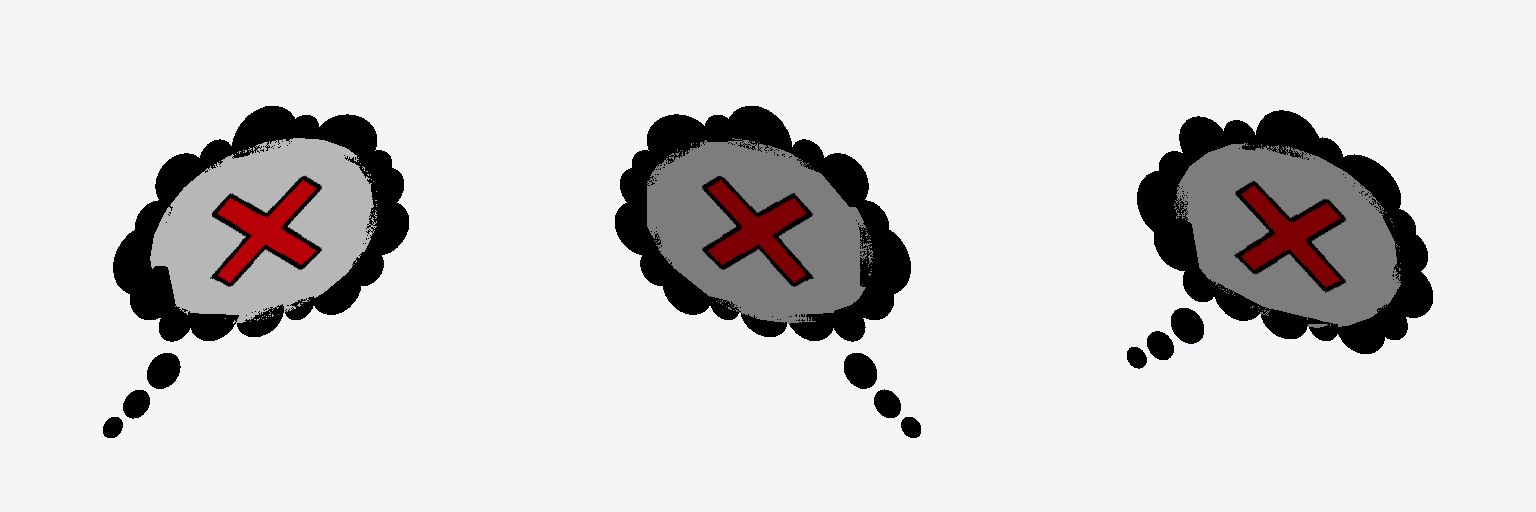
3 renders of one model, left to right at view 1: azimuth 30°, elevation 25°; view 2: azimuth 150°, elevation 25°; view 3: azimuth 330°, elevation 25°, orthographic.
Parts seen in each view (by area): view 1: pDisc17 polySurface5, pDisc17 polySurface4, pDisc17 polySurface13, pDisc17 polySurface8, pDisc17 polySurface14, pDisc17 polySurface12, pDisc17 polySurface19, pDisc17 polySurface17, pDisc17 polySurface3, pDisc17 polySurface9, pDisc17 polySurface16, pDisc17 polySurface11 (+7 smaller); view 2: pDisc17 polySurface5, pDisc17 polySurface14, pDisc17 polySurface13, pDisc17 polySurface4, pDisc17 polySurface19, pDisc17 polySurface12, pDisc17 polySurface17, pDisc17 polySurface8, pDisc17 polySurface16, pDisc17 polySurface3, pDisc17 polySurface20, pDisc17 polySurface9 (+7 smaller); view 3: pDisc17 polySurface5, pDisc17 polySurface4, pDisc17 polySurface14, pDisc17 polySurface13, pDisc17 polySurface8, pDisc17 polySurface12, pDisc17 polySurface19, pDisc17 polySurface17, pDisc17 polySurface2, pDisc17 polySurface3, pDisc17 polySurface9, pDisc17 polySurface16 (+7 smaller).
Part boxes in pixels (x1,y1,x2,y2): pDisc17 polySurface5: (150, 138, 376, 323); pDisc17 polySurface4: (232, 106, 298, 158); pDisc17 polySurface13: (313, 114, 376, 165); pDisc17 polySurface8: (130, 266, 175, 319); pDisc17 polySurface14: (113, 226, 156, 293); pDisc17 polySurface12: (363, 203, 408, 255); pDisc17 polySurface19: (155, 153, 202, 204); pDisc17 polySurface17: (314, 269, 360, 314); pDisc17 polySurface3: (189, 313, 238, 340); pDisc17 polySurface9: (370, 168, 403, 209); pDisc17 polySurface16: (147, 353, 180, 388); pDisc17 polySurface11: (135, 200, 172, 243); pDisc17 polySurface5: (647, 138, 873, 323); pDisc17 polySurface14: (860, 225, 910, 294); pDisc17 polySurface13: (647, 114, 706, 165); pDisc17 polySurface4: (728, 106, 791, 157); pDisc17 polySurface19: (819, 153, 868, 206); pDisc17 polySurface12: (615, 203, 661, 254); pDisc17 polySurface17: (662, 265, 710, 314); pDisc17 polySurface8: (850, 288, 893, 319); pDisc17 polySurface16: (844, 353, 876, 388); pDisc17 polySurface3: (789, 313, 834, 340); pDisc17 polySurface20: (834, 306, 865, 341); pDisc17 polySurface9: (620, 168, 653, 208); pDisc17 polySurface5: (1174, 143, 1400, 327); pDisc17 polySurface4: (1255, 110, 1322, 159); pDisc17 polySurface14: (1137, 171, 1187, 231); pDisc17 polySurface13: (1337, 154, 1400, 216); pDisc17 polySurface8: (1154, 217, 1198, 270); pDisc17 polySurface12: (1389, 264, 1432, 317); pDisc17 polySurface19: (1179, 116, 1226, 162); pDisc17 polySurface17: (1338, 315, 1385, 353); pDisc17 polySurface2: (1261, 306, 1307, 338); pDisc17 polySurface3: (1213, 282, 1262, 320); pDisc17 polySurface9: (1395, 231, 1427, 272); pDisc17 polySurface16: (1171, 308, 1203, 343).
Size of the model in its own units: 1.81 by 1.66 by 0.0072.
Materials: 2 (1 with a texture image).